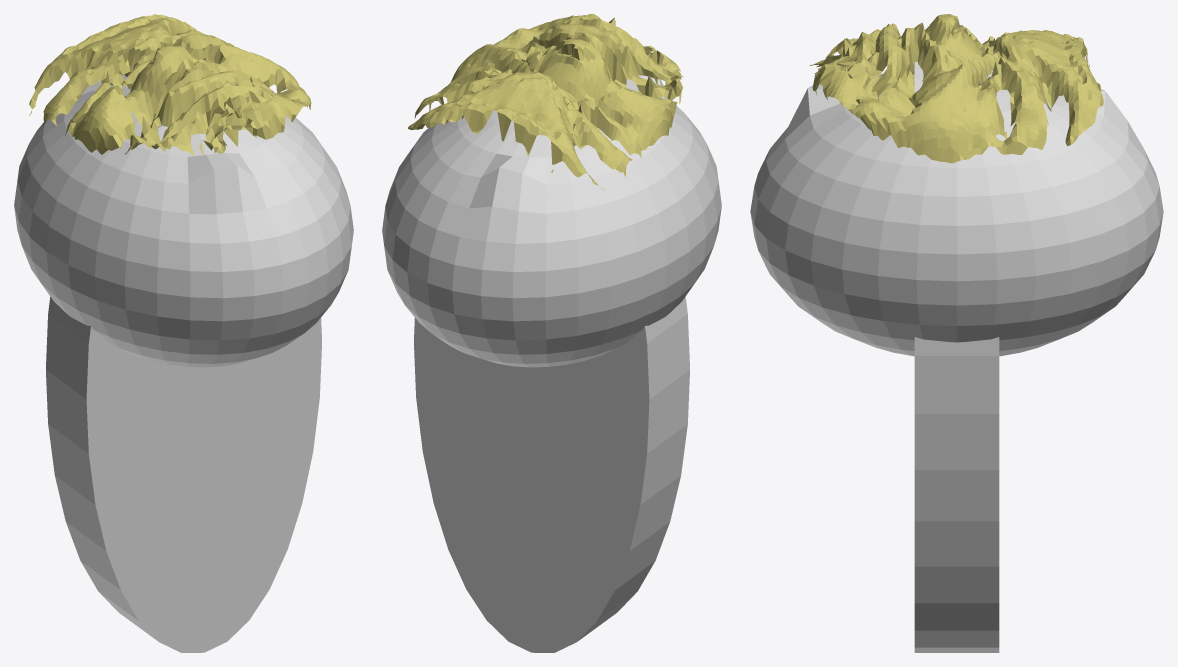
Rendered from faces_mad.glb.
3 renders of one model, left to right at view 1: azimuth 30°, elevation 25°; view 2: azimuth 150°, elevation 25°; view 3: azimuth 270°, elevation 25°, orthographic. The views are drawn at different scales.
Visible parts, largest first — view 1: Cylinder, Sphere, Plane; view 2: Cylinder, Sphere, Plane; view 3: Sphere, Plane, Cylinder.
Part boxes in pixels (box(x1,y1,x2,y2)): Cylinder: box(46, 85, 321, 652); Sphere: box(14, 74, 353, 367); Plane: box(29, 14, 311, 155); Cylinder: box(414, 98, 689, 652); Sphere: box(382, 75, 721, 367); Plane: box(408, 14, 683, 190); Sphere: box(750, 73, 1163, 356); Plane: box(810, 14, 1103, 163); Cylinder: box(914, 61, 999, 652).
Size of the model in its own units: 14.73 by 30.56 by 18.46.
Materials: 1 (1 with a texture image).
